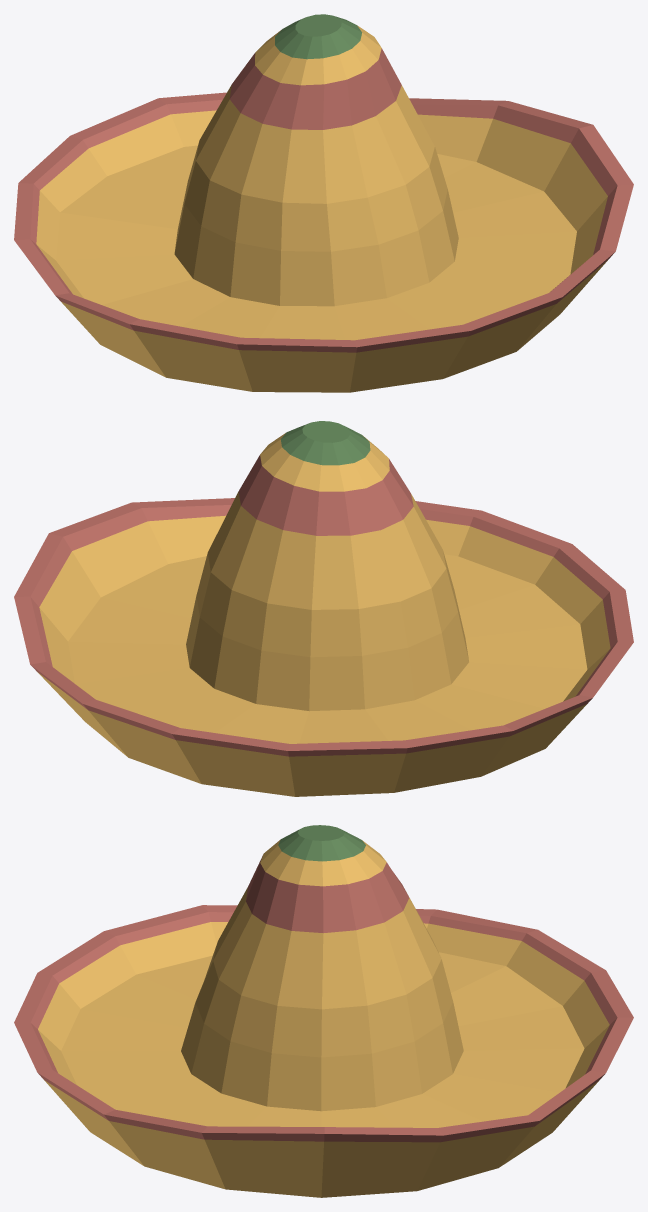
The model's file is Sombrero.fbx.
The picture shows the model from 3 angles, top to bottom: view 1: azimuth 30°, elevation 25°; view 2: azimuth 150°, elevation 25°; view 3: azimuth 270°, elevation 25°; orthographic projection.
Visible parts, largest first — view 1: Sombrero; view 2: Sombrero; view 3: Sombrero.
Boxes of the visible parts, x1,y1,x2,y2 form: Sombrero: (14, 14, 633, 392); Sombrero: (14, 421, 633, 796); Sombrero: (14, 825, 633, 1197).
Bounding box in the file's own units: 158 × 75.38 × 158.
